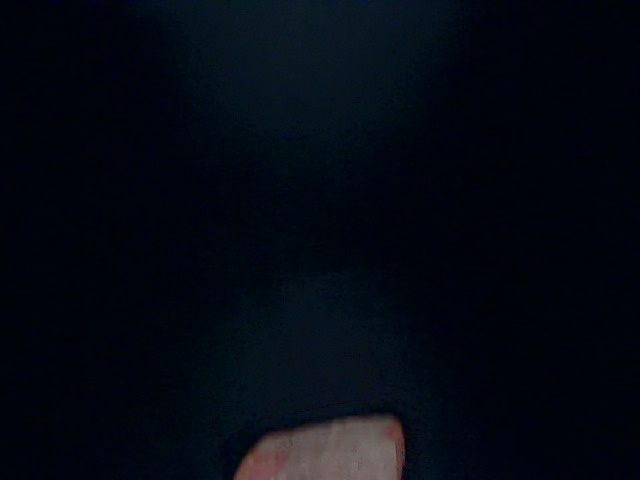KHSLJ: (1, 392, 234, 480)
